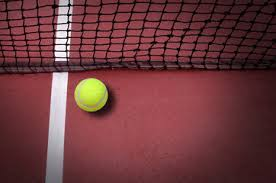tennis_ball: (73, 77, 109, 113)
